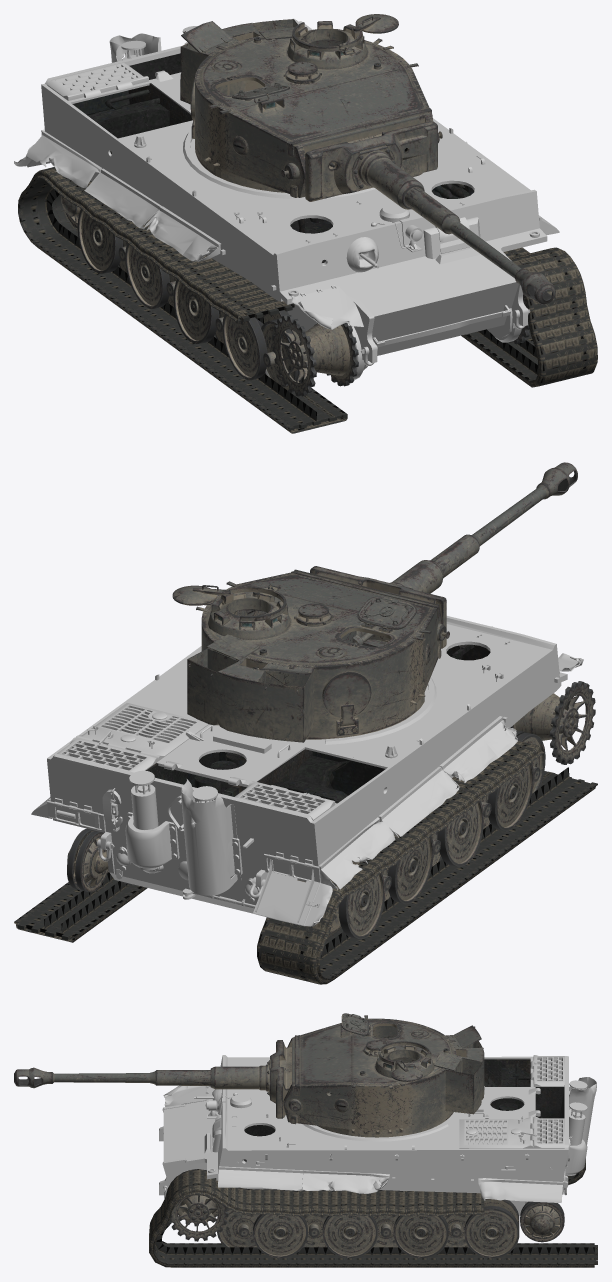
File: Tiger I_CRASHED.fbx
The picture shows the model from 3 angles, top to bottom: view 1: azimuth 30°, elevation 25°; view 2: azimuth 150°, elevation 25°; view 3: azimuth 270°, elevation 25°; orthographic projection. The views are drawn at different scales.
Visible parts, largest first — view 1: german\G04_PzVI_Tiger_I\crash\l\Hull.pri~7~4, german\G04_PzVI_Tiger_I\crash\l\Turret_02.pri~7~6, german\G04_PzVI_Tiger_I\crash\l\Chassis.pri~7~1, german\G04_PzVI_Tiger_I\crash\l\Hull.pri~7~5, german\G04_PzVI_Tiger_I\crash\l\Gun_05.pri~7~7, german\G04_PzVI_Tiger_I\crash\l\Chassis.pri~7~2, german\G04_PzVI_Tiger_I\crash\l\Hull.pri~7~3; view 2: german\G04_PzVI_Tiger_I\crash\l\Hull.pri~7~4, german\G04_PzVI_Tiger_I\crash\l\Turret_02.pri~7~6, german\G04_PzVI_Tiger_I\crash\l\Chassis.pri~7~1, german\G04_PzVI_Tiger_I\crash\l\Hull.pri~7~5, german\G04_PzVI_Tiger_I\crash\l\Hull.pri~7~3, german\G04_PzVI_Tiger_I\crash\l\Gun_05.pri~7~7, german\G04_PzVI_Tiger_I\crash\l\Chassis.pri~7~2; view 3: german\G04_PzVI_Tiger_I\crash\l\Hull.pri~7~4, german\G04_PzVI_Tiger_I\crash\l\Turret_02.pri~7~6, german\G04_PzVI_Tiger_I\crash\l\Chassis.pri~7~2, german\G04_PzVI_Tiger_I\crash\l\Hull.pri~7~5, german\G04_PzVI_Tiger_I\crash\l\Gun_05.pri~7~7, german\G04_PzVI_Tiger_I\crash\l\Hull.pri~7~3.
Boxes of the visible parts, bbox=[...] form: german\G04_PzVI_Tiger_I\crash\l\Hull.pri~7~4: bbox=[14, 18, 559, 379]; german\G04_PzVI_Tiger_I\crash\l\Turret_02.pri~7~6: bbox=[180, 14, 442, 197]; german\G04_PzVI_Tiger_I\crash\l\Chassis.pri~7~1: bbox=[18, 167, 347, 433]; german\G04_PzVI_Tiger_I\crash\l\Hull.pri~7~5: bbox=[61, 196, 529, 396]; german\G04_PzVI_Tiger_I\crash\l\Gun_05.pri~7~7: bbox=[305, 121, 555, 304]; german\G04_PzVI_Tiger_I\crash\l\Chassis.pri~7~2: bbox=[461, 247, 597, 387]; german\G04_PzVI_Tiger_I\crash\l\Hull.pri~7~3: bbox=[72, 53, 474, 262]; german\G04_PzVI_Tiger_I\crash\l\Hull.pri~7~4: bbox=[31, 616, 583, 926]; german\G04_PzVI_Tiger_I\crash\l\Turret_02.pri~7~6: bbox=[172, 569, 449, 742]; german\G04_PzVI_Tiger_I\crash\l\Chassis.pri~7~1: bbox=[257, 740, 597, 984]; german\G04_PzVI_Tiger_I\crash\l\Hull.pri~7~5: bbox=[67, 681, 595, 938]; german\G04_PzVI_Tiger_I\crash\l\Hull.pri~7~3: bbox=[146, 644, 490, 803]; german\G04_PzVI_Tiger_I\crash\l\Gun_05.pri~7~7: bbox=[310, 462, 577, 648]; german\G04_PzVI_Tiger_I\crash\l\Chassis.pri~7~2: bbox=[14, 872, 147, 942]; german\G04_PzVI_Tiger_I\crash\l\Hull.pri~7~4: bbox=[159, 1055, 596, 1215]; german\G04_PzVI_Tiger_I\crash\l\Turret_02.pri~7~6: bbox=[283, 1013, 484, 1137]; german\G04_PzVI_Tiger_I\crash\l\Chassis.pri~7~2: bbox=[149, 1169, 597, 1267]; german\G04_PzVI_Tiger_I\crash\l\Hull.pri~7~5: bbox=[169, 1194, 564, 1258]; german\G04_PzVI_Tiger_I\crash\l\Gun_05.pri~7~7: bbox=[14, 1040, 291, 1118]; german\G04_PzVI_Tiger_I\crash\l\Hull.pri~7~3: bbox=[244, 1059, 564, 1161].
Bounding box in the file's own units: 3.74 × 2.97 × 8.48.
